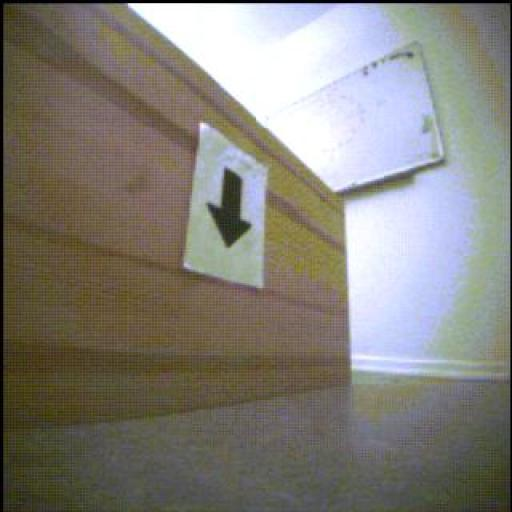Arrow: (209, 169, 252, 247)
